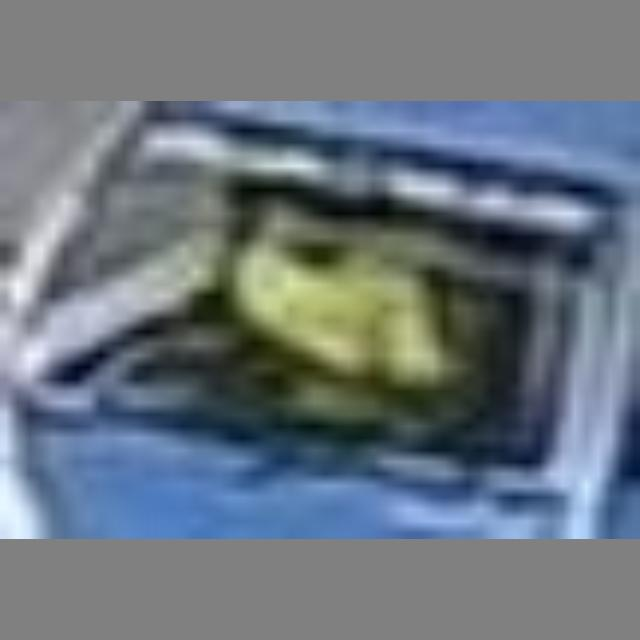tidak-pakai: (178, 208, 439, 409)
